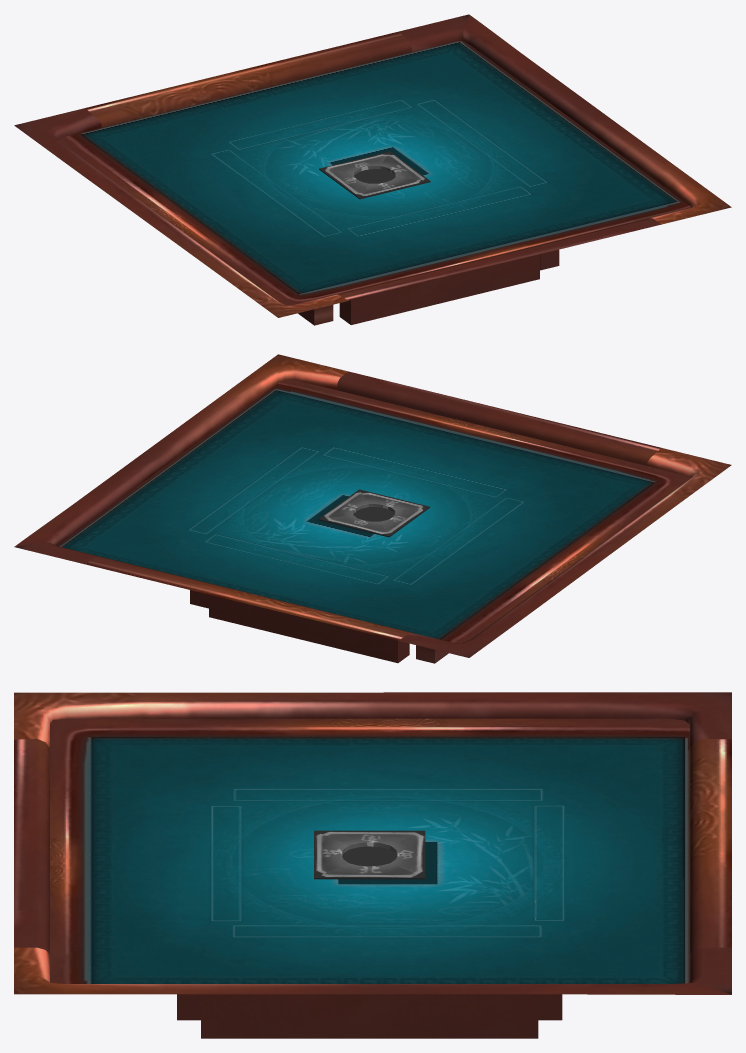
The model's file is shaizi.fbx.
3 renders of one model, top to bottom at view 1: azimuth 30°, elevation 25°; view 2: azimuth 150°, elevation 25°; view 3: azimuth 270°, elevation 25°, orthographic. The views are drawn at different scales.
Parts seen in each view (by area): view 1: zhuomian, taimian, polySurface26, polySurface24, polySurface25, polySurface23, polySurface17, polySurface18, polySurface21, polySurface19; view 2: zhuomian, taimian, polySurface26, polySurface24, polySurface23, polySurface25, polySurface18, polySurface17, polySurface21, polySurface19; view 3: zhuomian, taimian, polySurface26, polySurface24, polySurface23, polySurface25, polySurface19, polySurface21, polySurface17, polySurface18, polySurface20.
Boxes of the visible parts, <box> form: zhuomian: <box>58,41,691,325</box>; taimian: <box>14,14,731,317</box>; polySurface26: <box>191,156,332,250</box>; polySurface24: <box>417,100,558,195</box>; polySurface25: <box>210,101,409,155</box>; polySurface23: <box>340,196,539,250</box>; polySurface17: <box>320,151,389,175</box>; polySurface18: <box>359,177,430,199</box>; polySurface21: <box>380,151,429,180</box>; polySurface19: <box>319,168,368,198</box>; zhuomian: <box>57,379,691,663</box>; taimian: <box>14,354,731,657</box>; polySurface26: <box>416,494,558,588</box>; polySurface24: <box>190,439,331,533</box>; polySurface23: <box>339,439,538,493</box>; polySurface25: <box>209,534,408,588</box>; polySurface18: <box>359,489,428,512</box>; polySurface17: <box>318,515,389,537</box>; polySurface21: <box>319,489,368,518</box>; polySurface19: <box>380,506,430,537</box>; zhuomian: <box>50,718,689,1038</box>; taimian: <box>14,692,731,994</box>; polySurface26: <box>201,774,538,786</box>; polySurface24: <box>201,924,538,936</box>; polySurface23: <box>177,793,208,918</box>; polySurface25: <box>531,793,562,918</box>; polySurface19: <box>314,830,424,849</box>; polySurface21: <box>314,863,425,879</box>; polySurface17: <box>390,831,425,877</box>; polySurface18: <box>314,831,348,877</box>; polySurface20: <box>342,846,396,866</box>.
Bounding box in the file's own units: 37.8 × 6.61 × 37.9.
